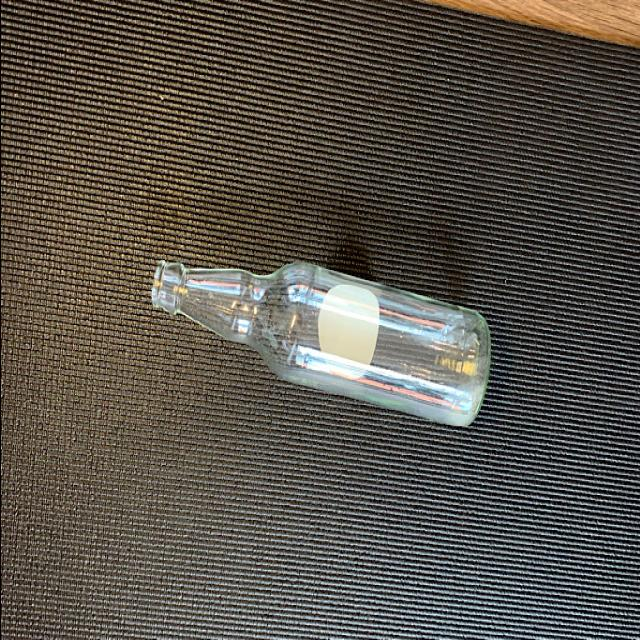litter: (138, 249, 493, 431)
